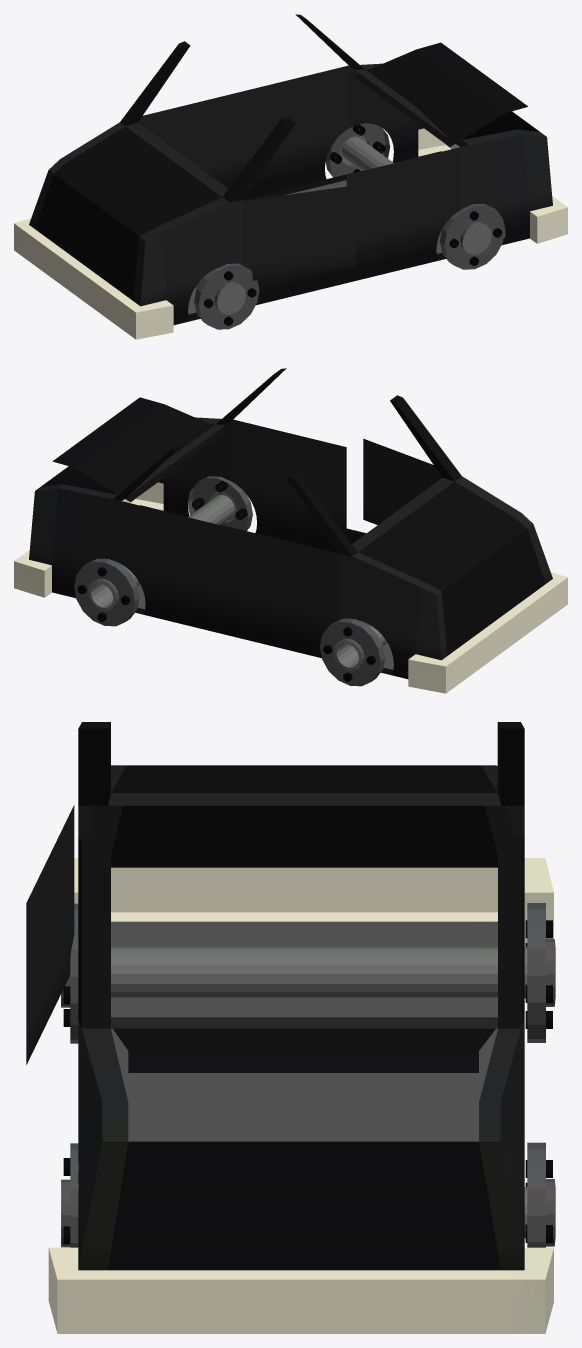
Rendered from Carro4.glb.
The picture shows the model from 3 angles, top to bottom: view 1: azimuth 30°, elevation 25°; view 2: azimuth 150°, elevation 25°; view 3: azimuth 270°, elevation 25°; orthographic projection. The views are drawn at different scales.
Parts seen in each view (by area): view 1: Carro4; view 2: Carro4; view 3: Carro4.
Part boxes in pixels (x1=…): Carro4: x1=14, y1=14, x2=567, y2=339; Carro4: x1=14, y1=368, x2=567, y2=693; Carro4: x1=26, y1=722, x2=555, y2=1333.
Size of the model in its own units: 4.17 by 1.74 by 2.21.
Materials: 1 (1 with a texture image).
